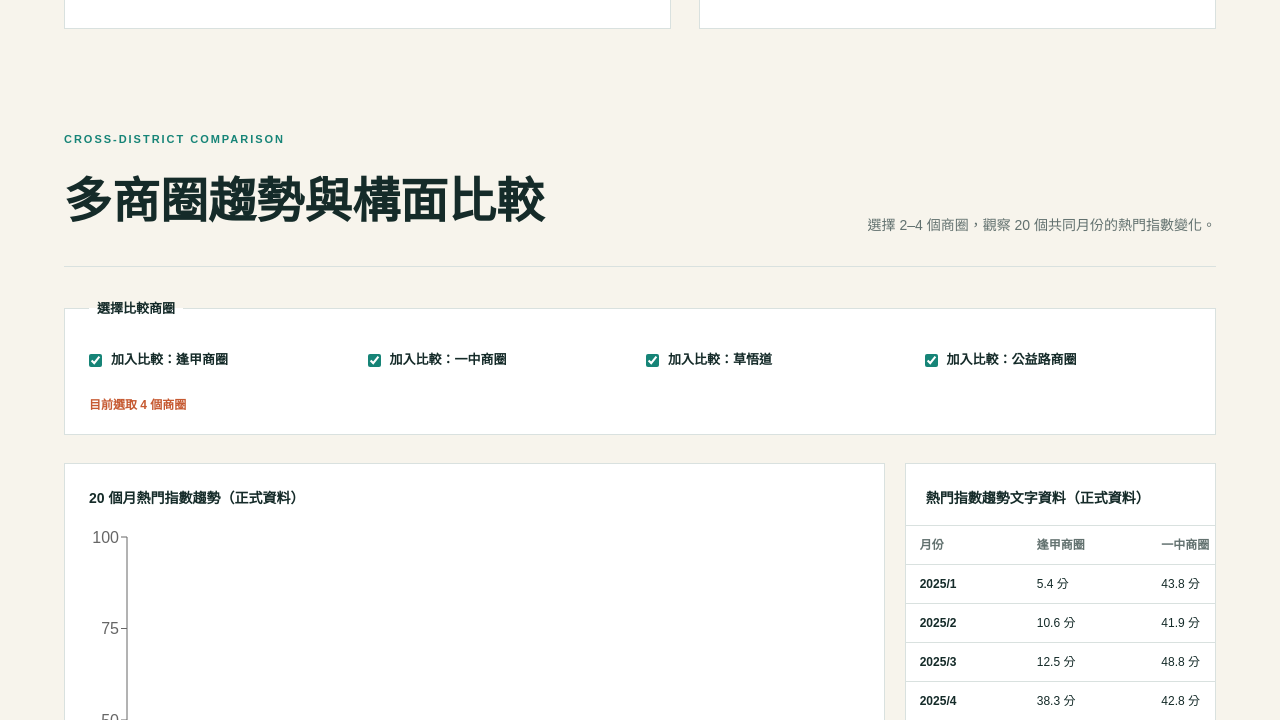
research prototype page › keeps the rejected comparison checkbox selected and announces why
This screenshot has width=1280, height=720.
(page scrolled)
Click the checkbox labelled "加入比較：逢甲商圈": (96, 360) [89,354,102,367]
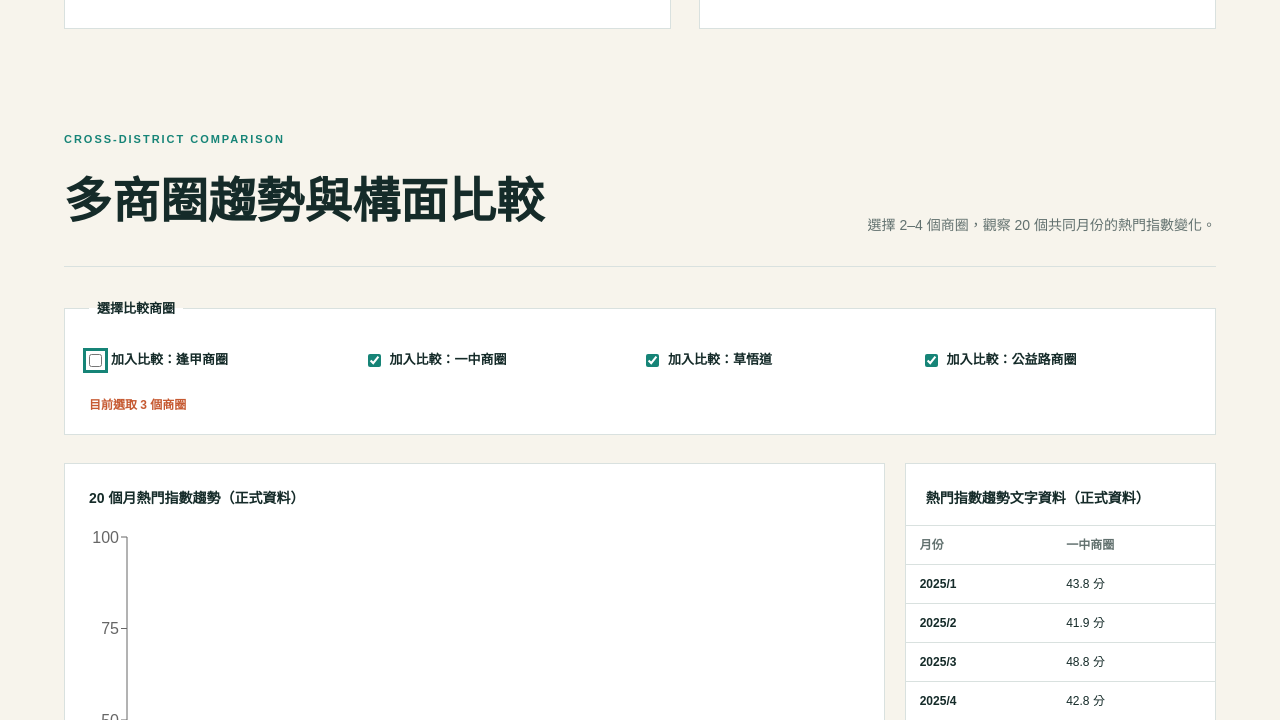
Click the checkbox labelled "加入比較：一中商圈": (374, 360) [368,354,380,367]
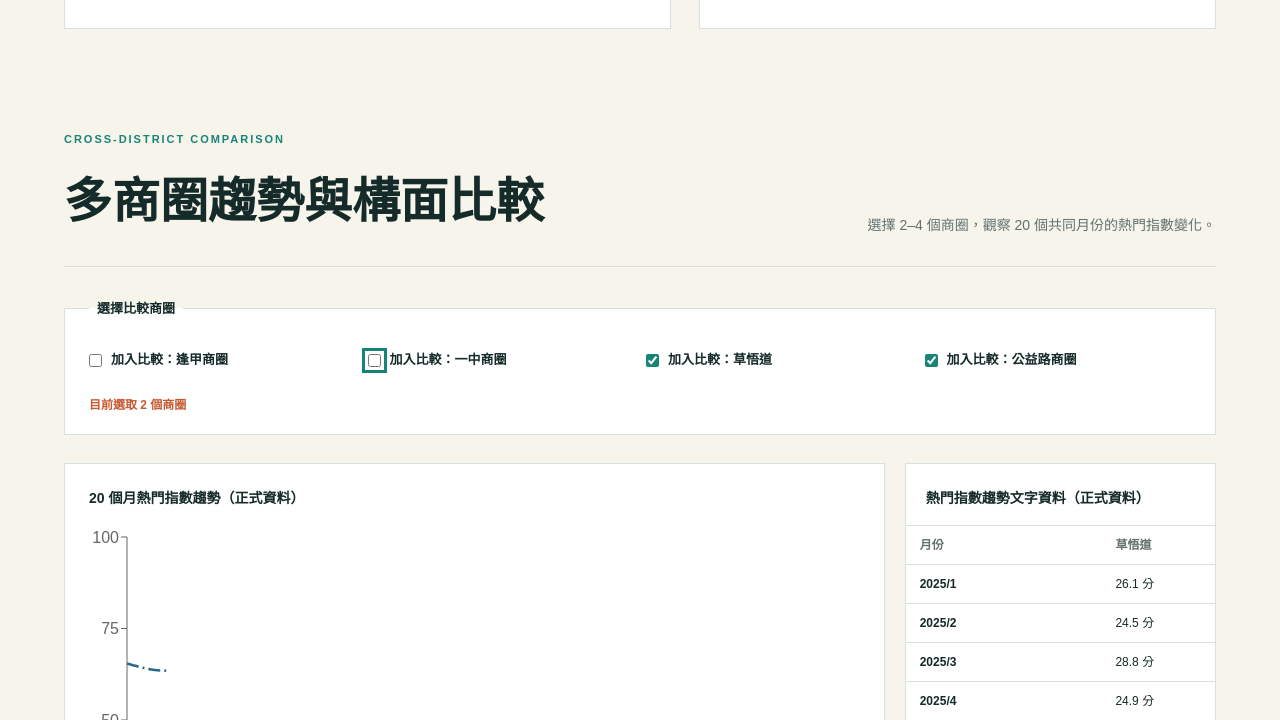
Click the checkbox labelled "加入比較：草悟道": (652, 360) [646,354,659,367]
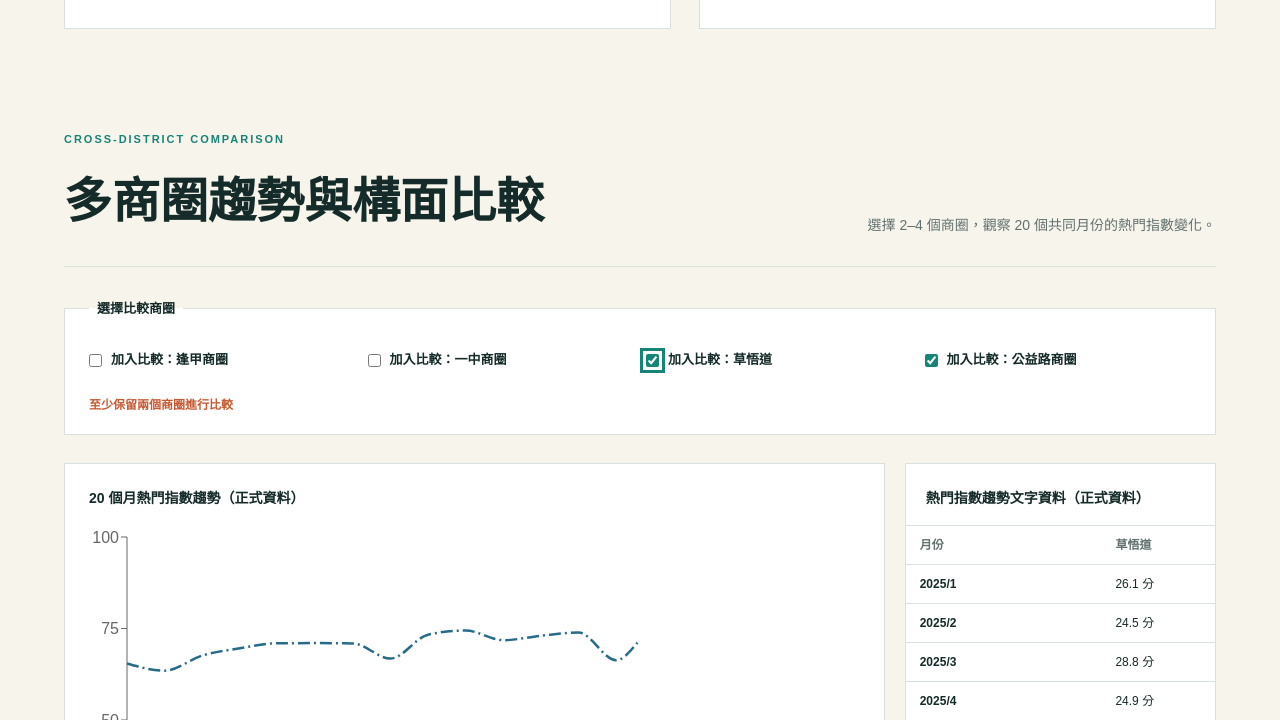
Now the text "至少保留兩個商圈進行比較" is shown, box [89,398,233,412]
